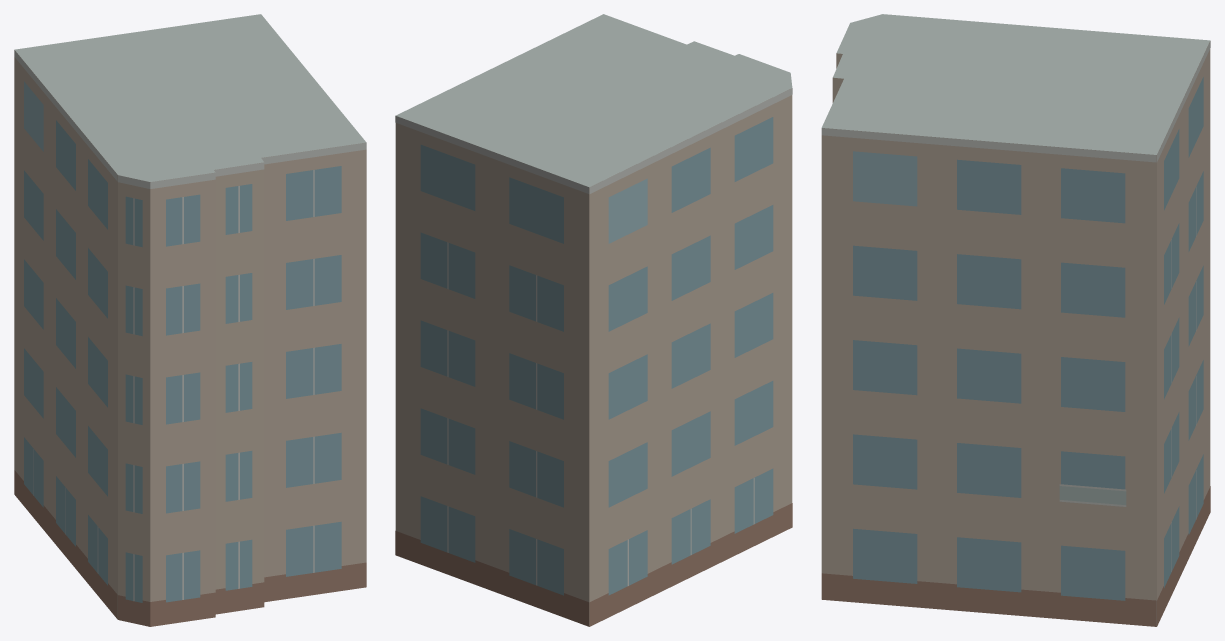
File: survey-upis-32537460.glb
3 views of the same model, side by side, from view 1: azimuth 30°, elevation 25°; view 2: azimuth 150°, elevation 25°; view 3: azimuth 270°, elevation 25° (orthographic). The views are drawn at different scales.
Visible parts, largest first — view 1: survey-upis-32537460.tmp; view 2: survey-upis-32537460.tmp; view 3: survey-upis-32537460.tmp.
Boxes of the visible parts, <box> form: survey-upis-32537460.tmp: <box>14,14,366,626</box>; survey-upis-32537460.tmp: <box>395,14,792,626</box>; survey-upis-32537460.tmp: <box>821,14,1210,626</box>.
Bounding box in the file's own units: 9.88 × 15.4 × 11.51.
